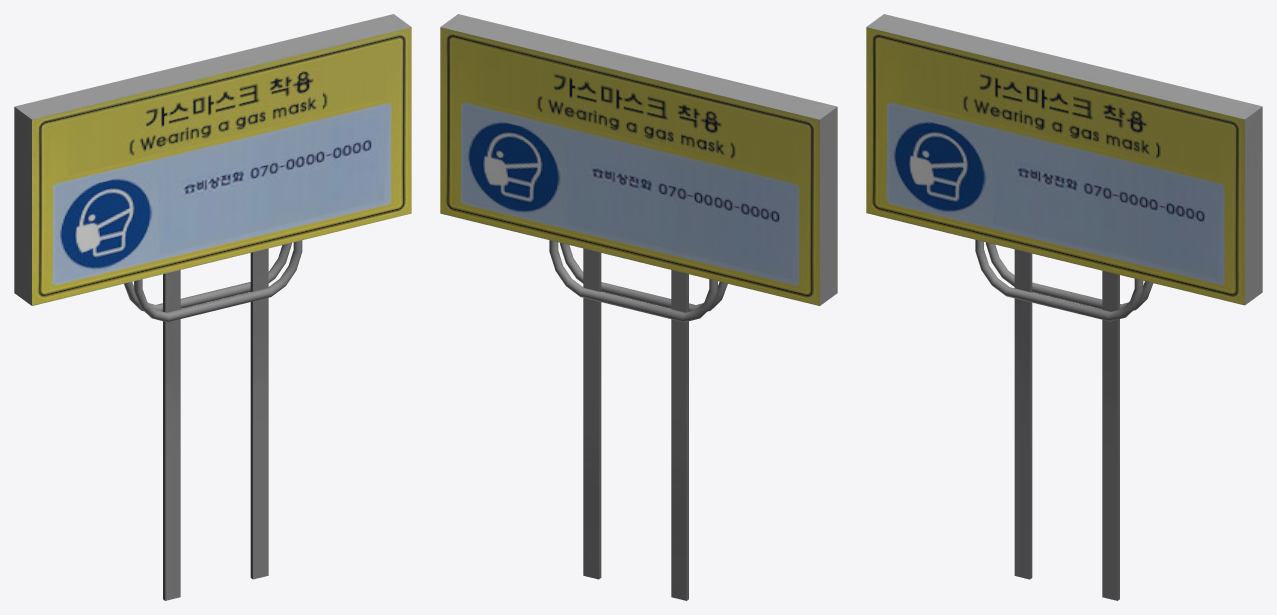
File: cautionGasMask.gltf
3 renders of one model, left to right at view 1: azimuth 30°, elevation 25°; view 2: azimuth 150°, elevation 25°; view 3: azimuth 330°, elevation 25°, orthographic.
Visible parts, largest first — view 1: cautionGasMask; view 2: cautionGasMask; view 3: cautionGasMask.
Part boxes in pixels (box(x1,y1,x2,y2)): cautionGasMask: box(14, 14, 411, 600); cautionGasMask: box(440, 14, 837, 600); cautionGasMask: box(866, 14, 1262, 600).
Size of the model in its own units: 21.53 by 28.25 by 1.76.
Materials: 1 (1 with a texture image).
